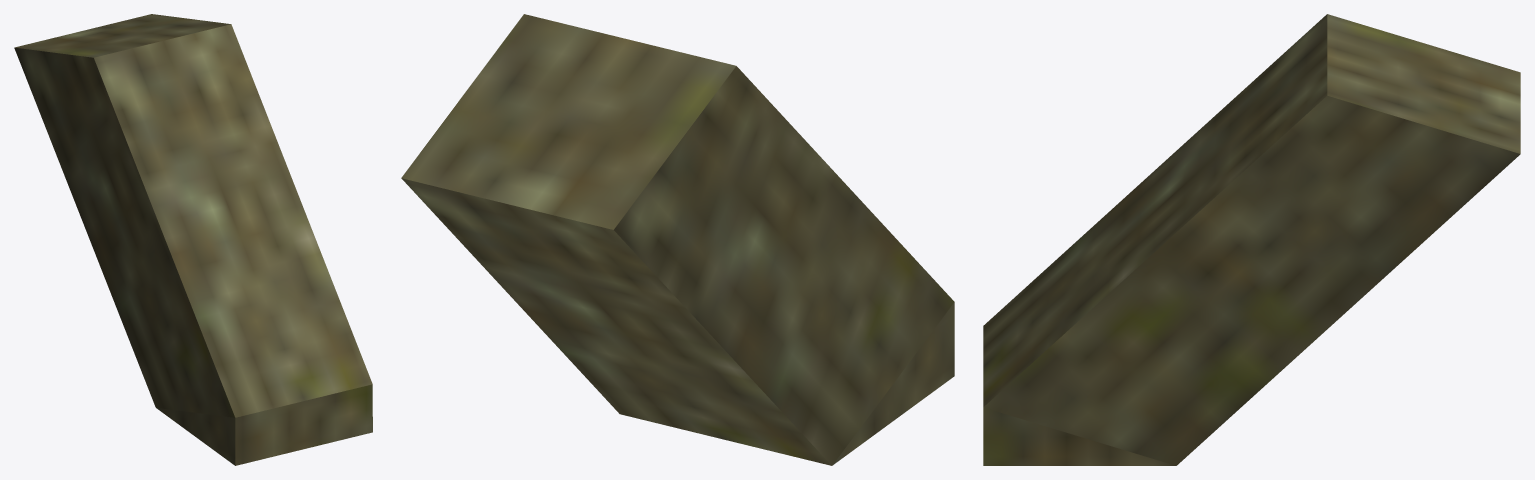
The model's file is poplar_branch_45_straight.obj.
The picture shows the model from 3 angles, left to right: view 1: azimuth 30°, elevation 25°; view 2: azimuth 150°, elevation 25°; view 3: azimuth 270°, elevation 25°; orthographic projection. The views are drawn at different scales.
Parts seen in each view (by area): view 1: cube; view 2: cube; view 3: cube.
Boxes of the visible parts, box(x1,y1,x2,y2) form: cube: box(14, 14, 372, 465); cube: box(401, 14, 954, 465); cube: box(983, 14, 1520, 465).
Bounding box in the file's own units: 0.5615 × 1.19 × 1.56.
